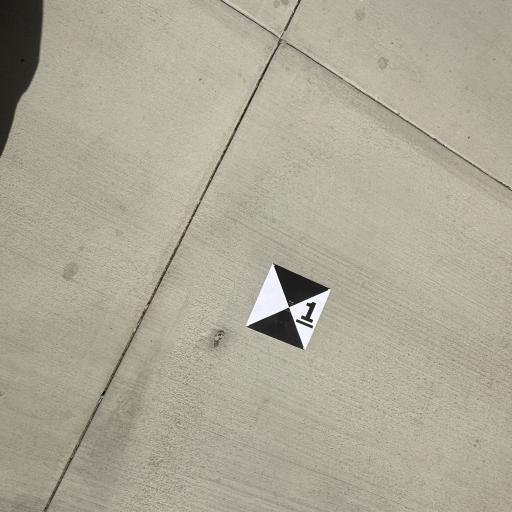target1: (240, 260, 335, 357)
